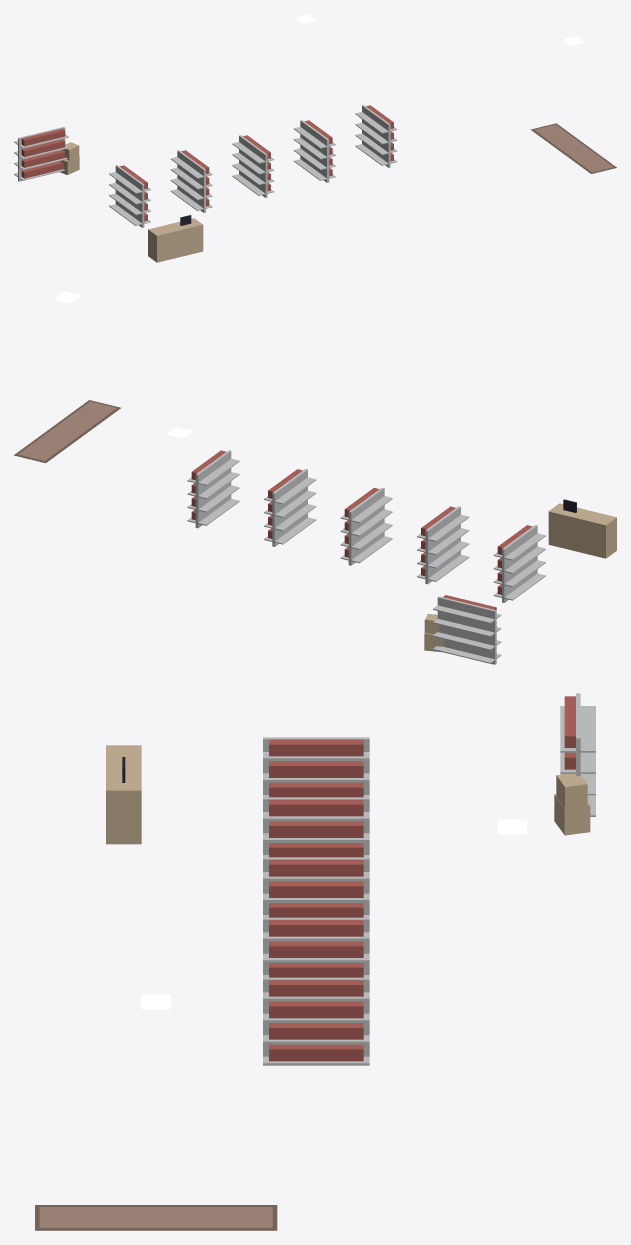
Rendered from fine-s0.glb.
3 views of the same model, one above another, from view 1: azimuth 30°, elevation 25°; view 2: azimuth 150°, elevation 25°; view 3: azimuth 270°, elevation 25° (orthographic). The views are drawn at different scales.
Parts seen in each view (by area): view 1: shelving.000, shop-counter.000, shelf.003, shelf.001, shelf.000, shelf.002, shelf.004, soft-s0, cardboard-box.000; view 2: shelving.000, shop-counter.000, shelf.004, shelf.002, shelf.000, shelf.001, shelf.003, soft-s0, cardboard-box.000; view 3: shelf.004, shelf.000, shelf.001, shelf.002, shelf.003, soft-s0, shop-counter.000, shelving.000, cardboard-box.000.
Boxes of the visible parts, x1,y1,x2,y2 form: shelving.000: (14, 127, 68, 181); shop-counter.000: (148, 215, 203, 262); shelf.003: (293, 120, 335, 182); shelf.001: (170, 150, 212, 212); shelf.000: (109, 165, 150, 227); shelf.002: (232, 135, 274, 197); shelf.004: (355, 105, 397, 167); soft-s0: (530, 123, 616, 173); cardboard-box.000: (59, 142, 79, 174); shelving.000: (433, 595, 501, 664); shop-counter.000: (548, 499, 616, 558); shelf.004: (187, 450, 239, 528); shelf.002: (340, 487, 392, 565); shelf.000: (493, 525, 545, 602); shelf.001: (417, 506, 469, 584); shelf.003: (264, 469, 316, 546); soft-s0: (14, 400, 120, 462); cardboard-box.000: (424, 613, 444, 652); shelf.004: (263, 977, 369, 1065); shelf.000: (263, 737, 369, 797); shelf.001: (263, 797, 369, 857); shelf.002: (263, 857, 369, 917); shelf.003: (263, 917, 369, 977); soft-s0: (35, 1205, 277, 1230); shop-counter.000: (106, 745, 141, 844); shelving.000: (560, 693, 595, 816); cardboard-box.000: (554, 774, 590, 835).
Size of the model in its own units: 18.04 by 4.05 by 9.47.
